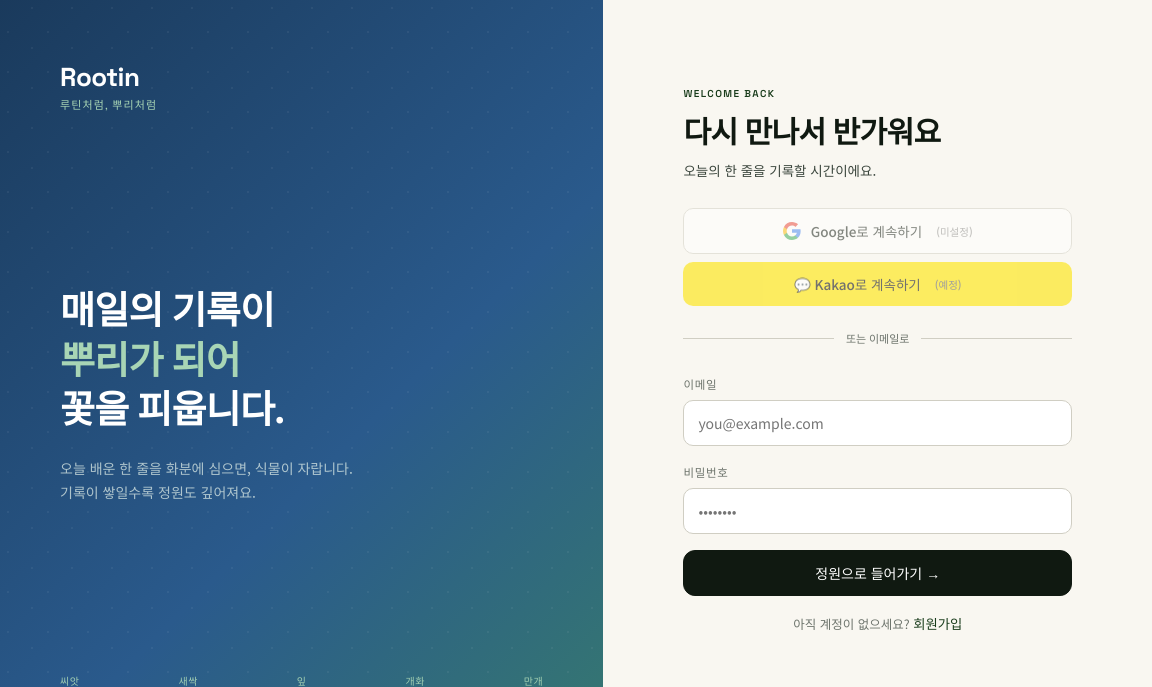
Test case: 클라이언트 유효성 검사 › 회원가입 시 닉네임이 비어있으면 에러 메시지가 표시된다
Click the button "회원가입": (938, 624) [913,614,962,633]
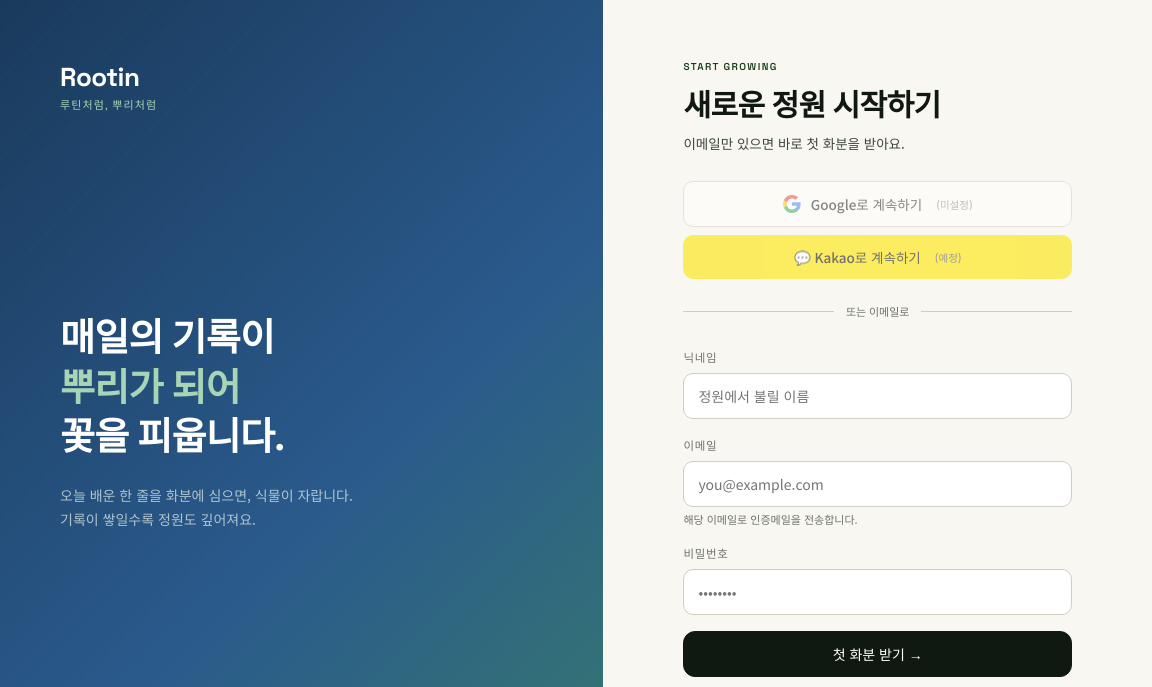
In the field with placeholder "you@example.com": (878, 484) [683,461,1072,507], type "test@test.com"
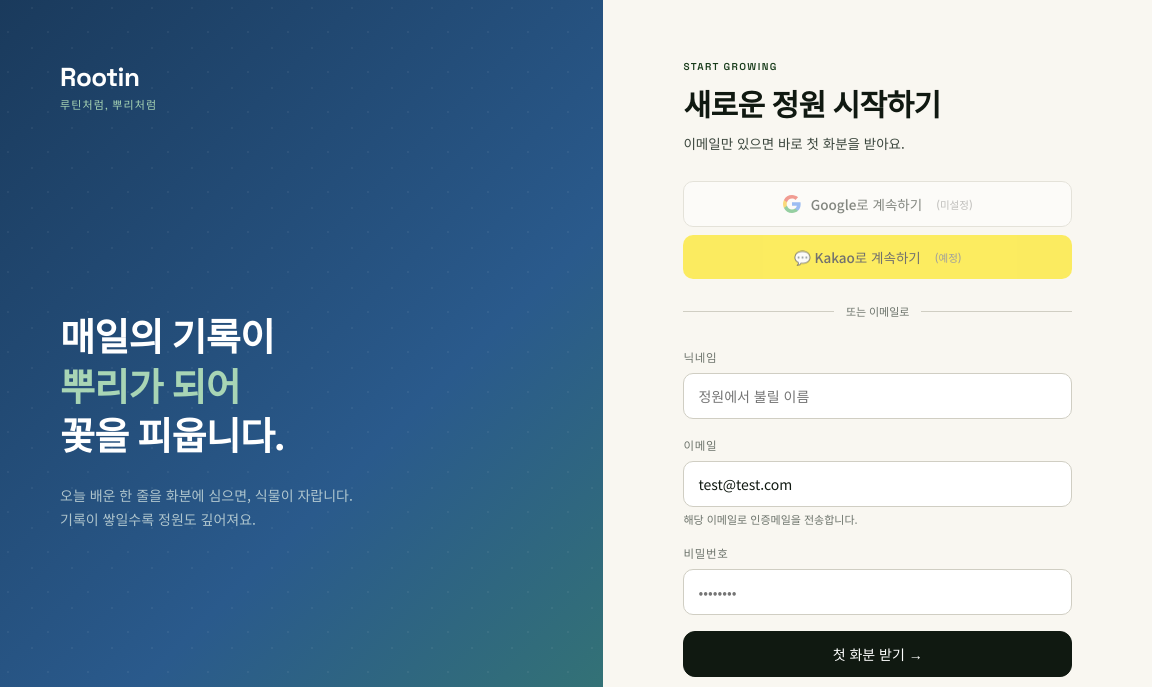
In the password field with placeholder "••••••••": (878, 592) [683,569,1072,615], type "password123"
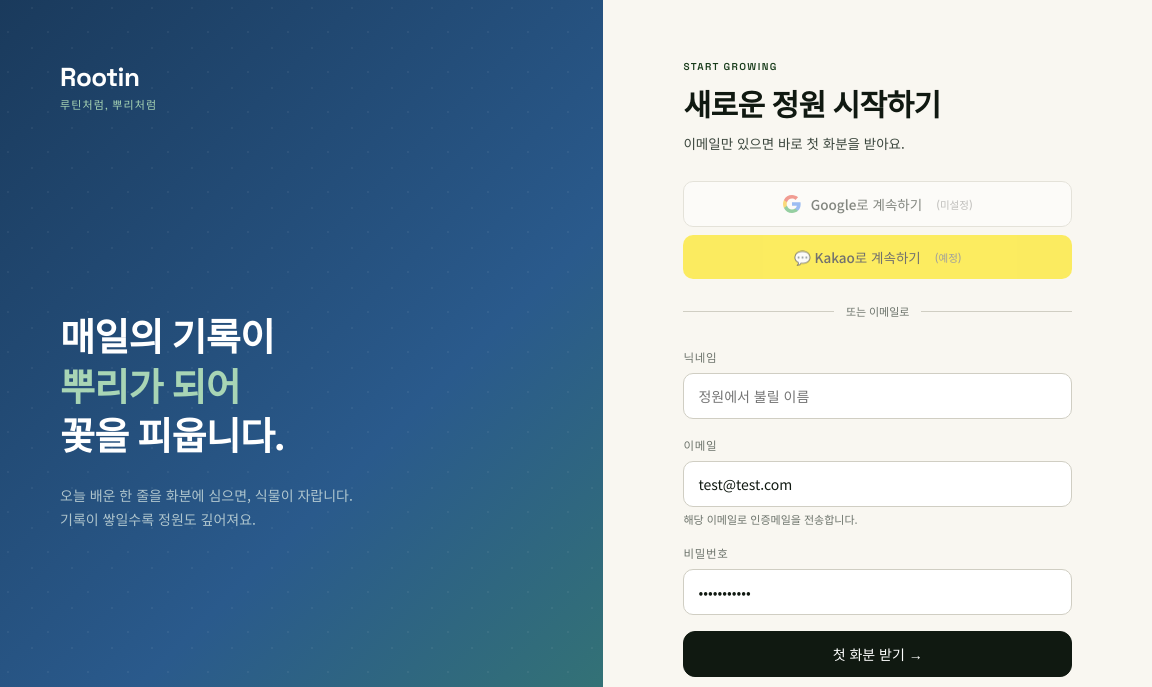
Click the button "첫 화분 받기 →": (878, 654) [683,631,1072,677]
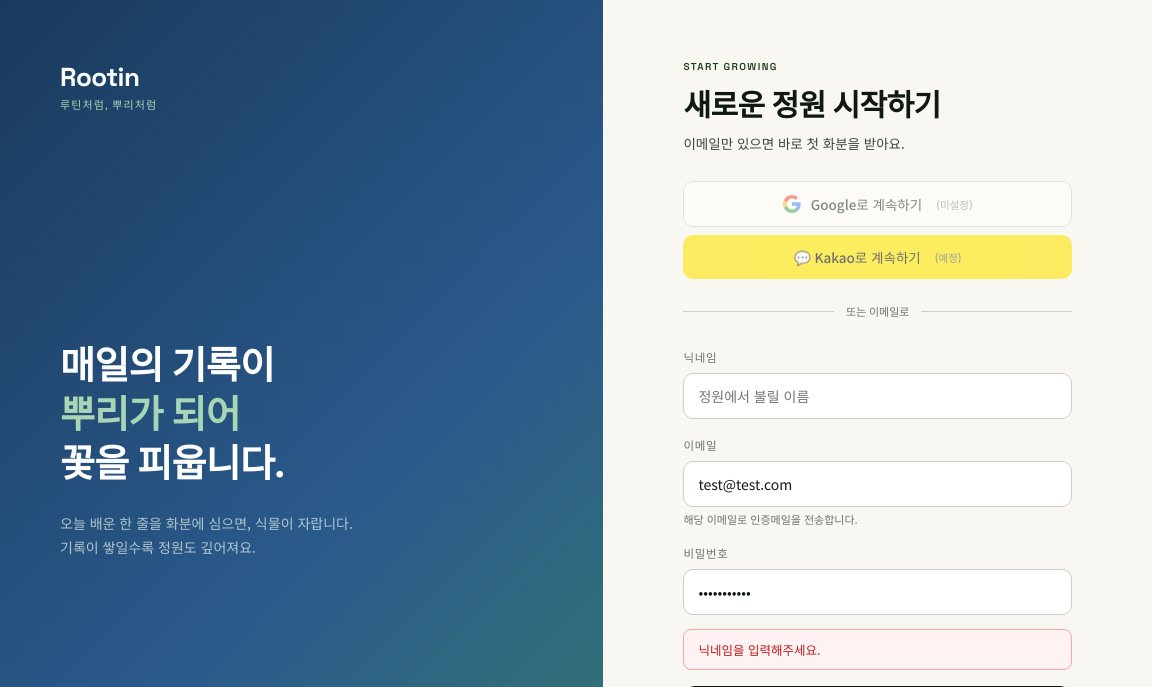
Check: the text "닉네임을 입력해주세요." is shown, box [683,629,1072,670]
